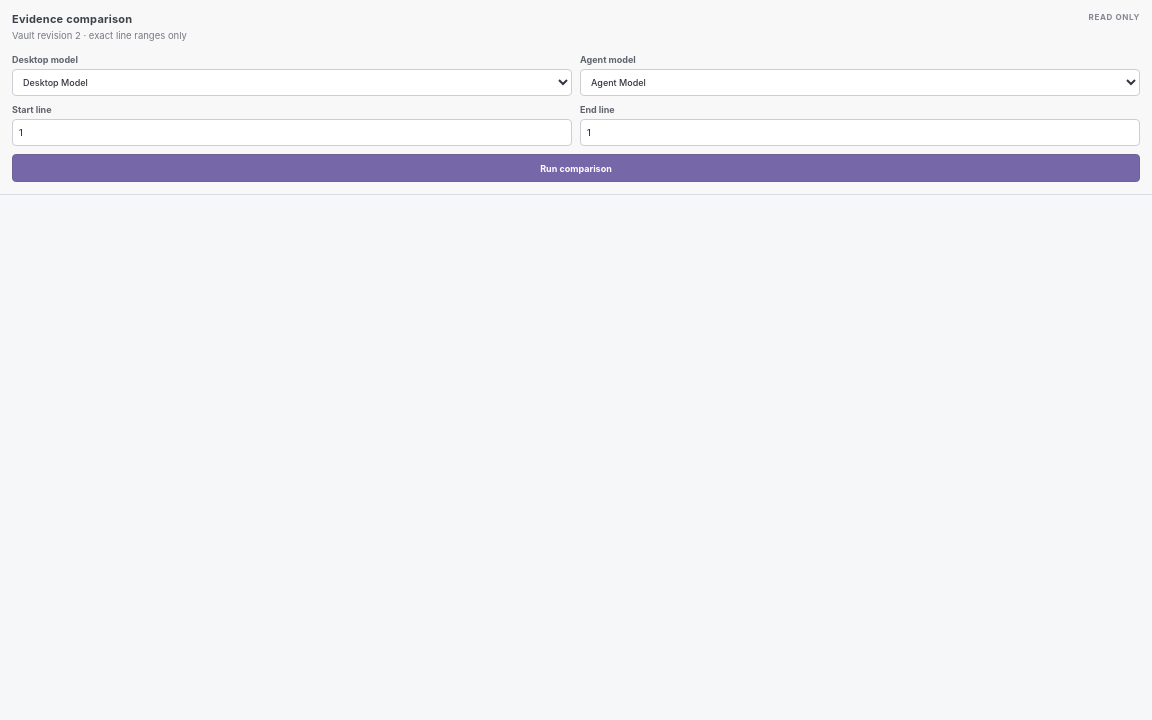
Test: AgentReviewPane › renders both proposals, evidence identity, and read-only Agent decision
Click the button "Run comparison" at (576, 168), box x1=12 y1=154 x2=1140 y2=182
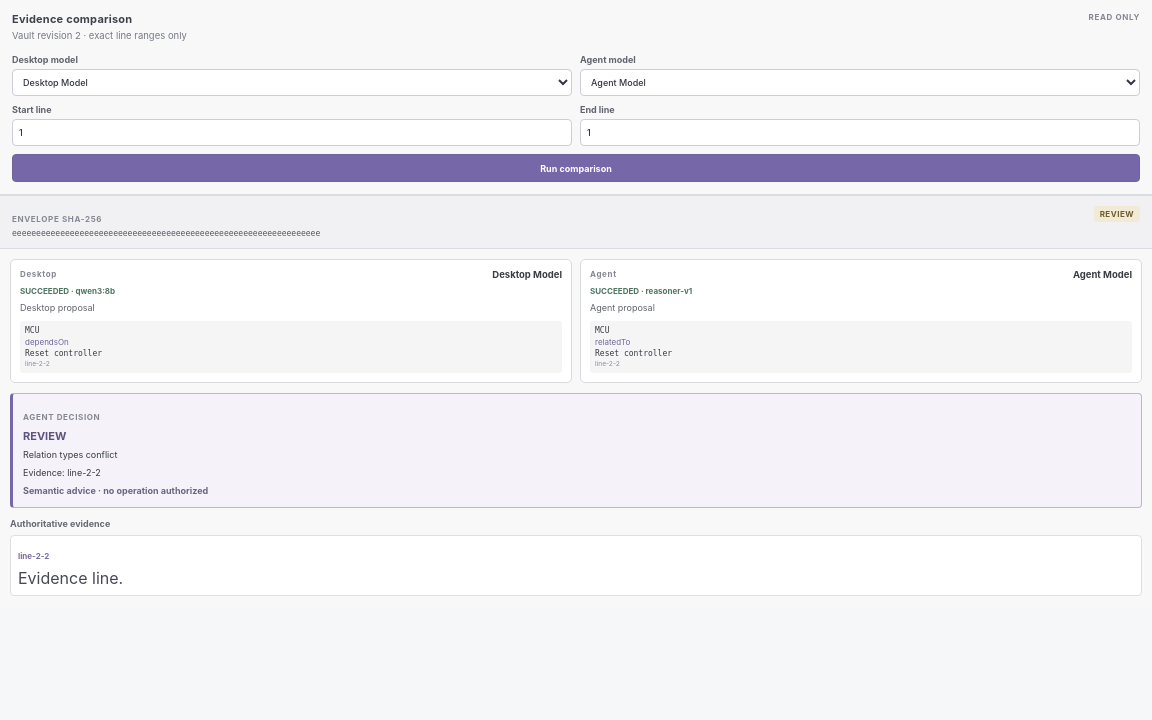
Expected: the element named "Model comparison result" shows "Desktop Model", x1=492 y1=269 x2=562 y2=280
Expected: the element named "Model comparison result" shows "qwen3:8b", x1=76 y1=286 x2=115 y2=296
Expected: the element named "Model comparison result" shows "Agent Model", x1=1073 y1=269 x2=1132 y2=280
